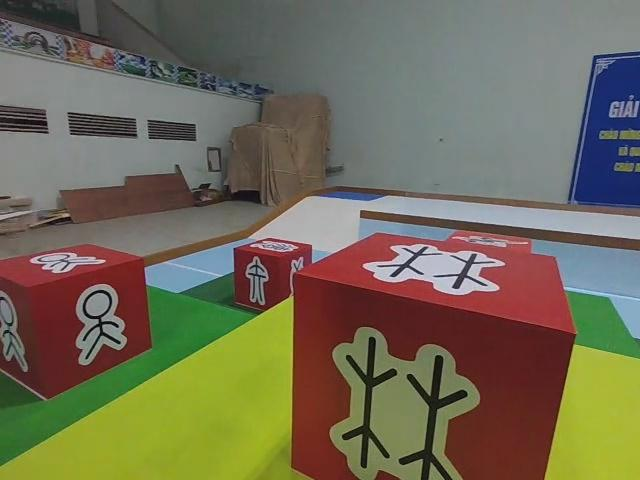R2 Fake: (229, 235, 314, 314)
R2 Real: (287, 227, 576, 480), (0, 242, 152, 401)
